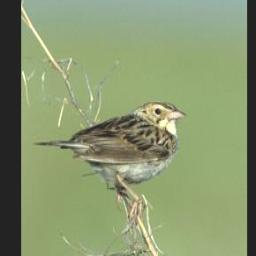Sparrow: (30, 95, 194, 224)
